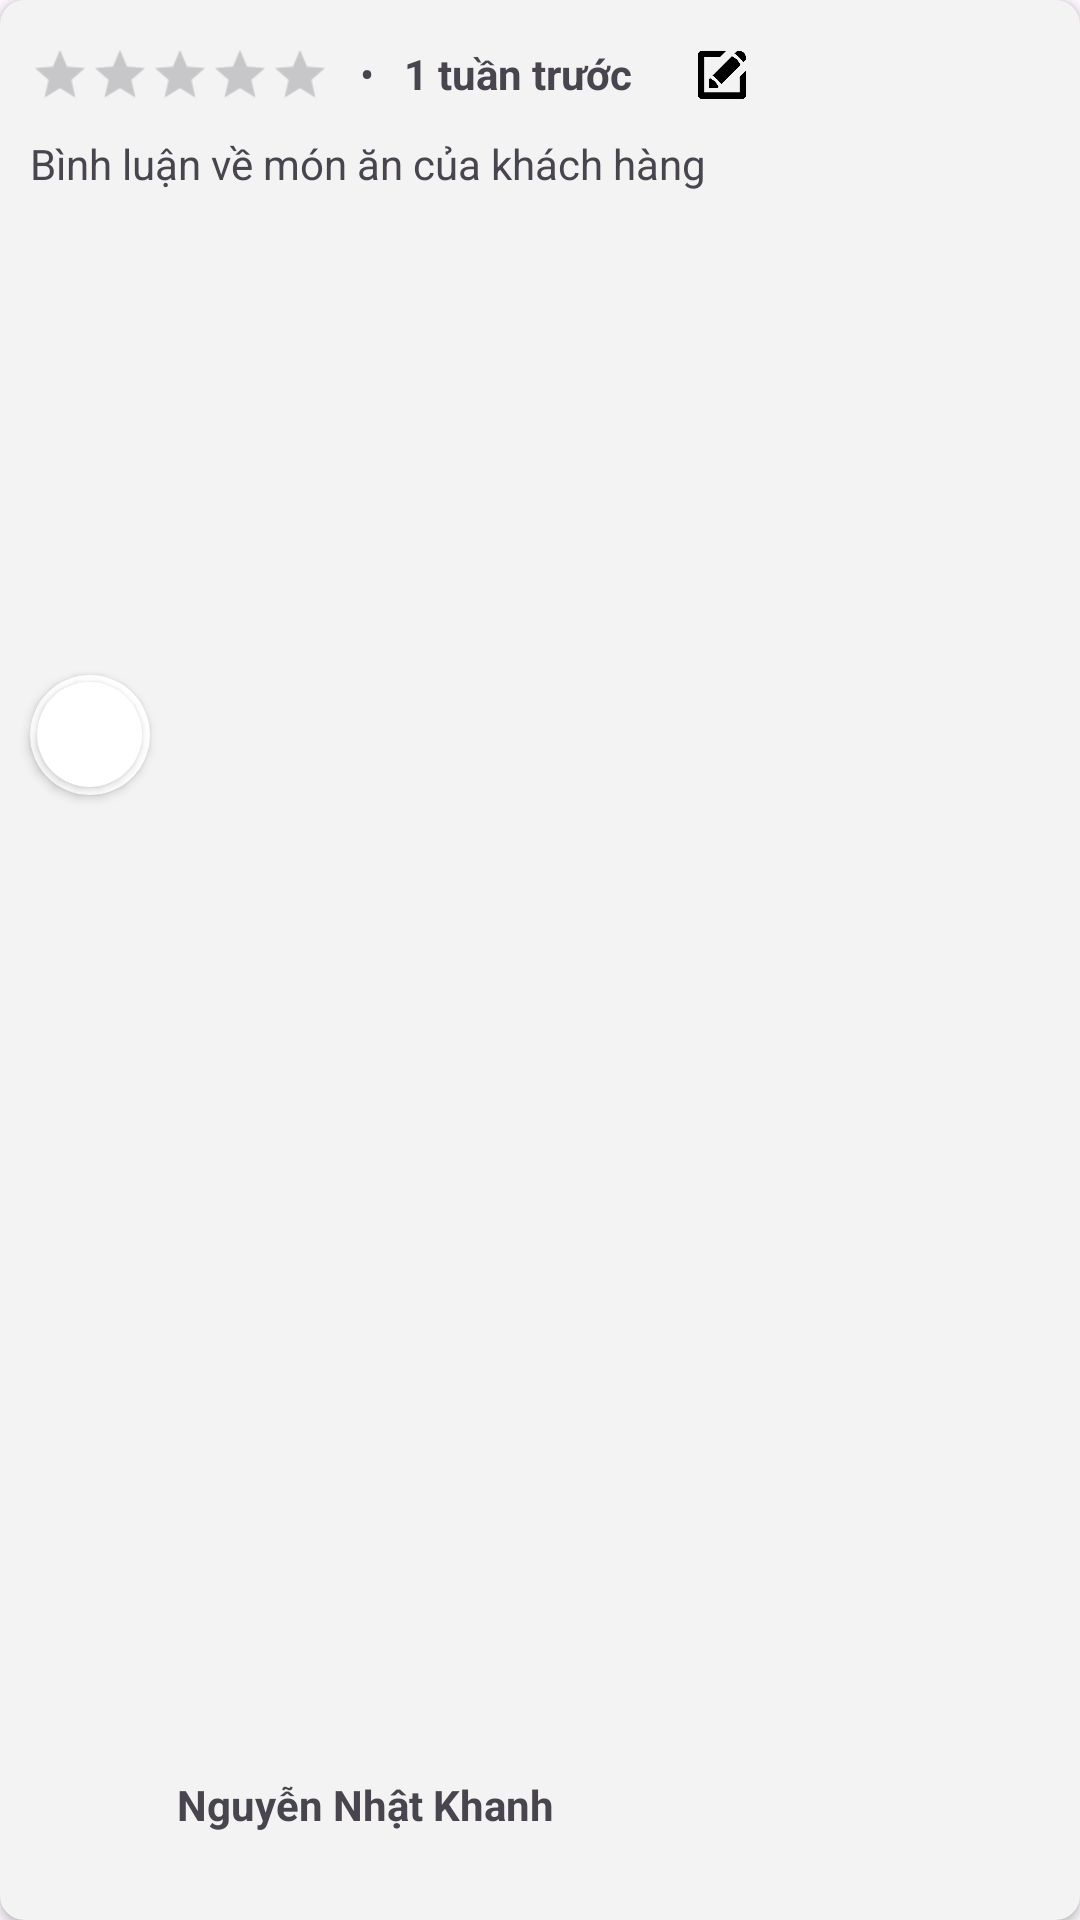

Icons on this 1080w x 1920h Android screen, each with its box as detection(x1, y1, x2, y2):
edit: detection(698, 51, 746, 99)
